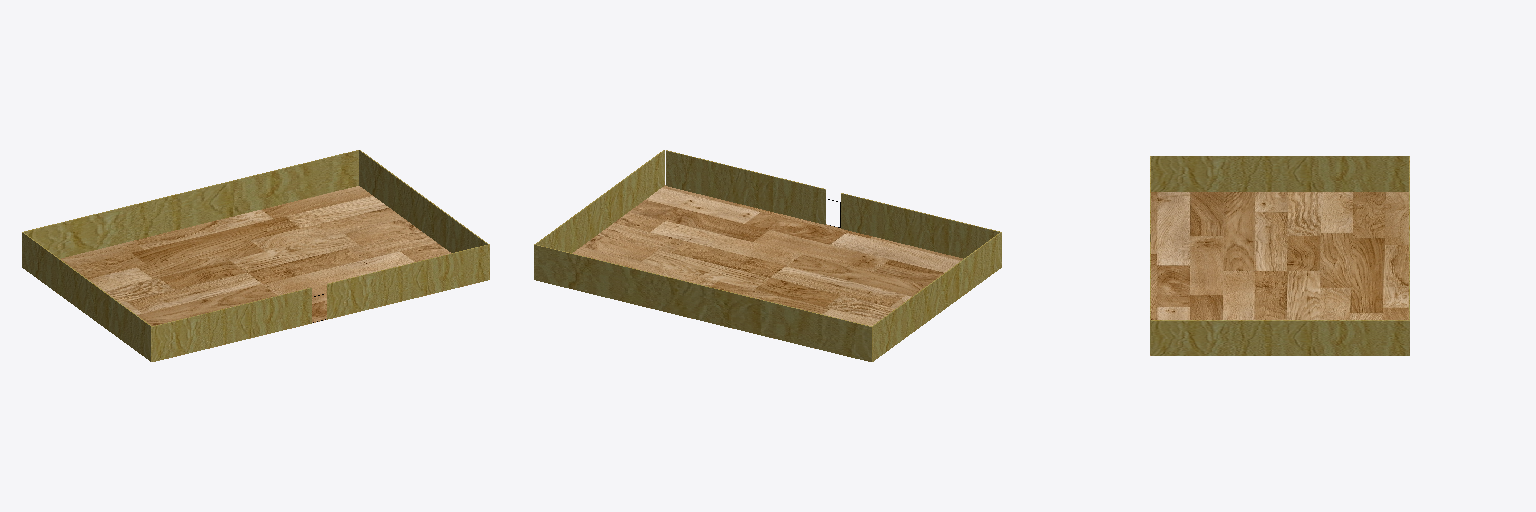
The picture shows the model from 3 angles: view 1: azimuth 30°, elevation 25°; view 2: azimuth 150°, elevation 25°; view 3: azimuth 270°, elevation 25°; orthographic projection.
Visible parts, largest first — view 1: pPlane1, pCube17, pCube38, pCube36, pCube33, pCube34; view 2: pPlane1, pCube17, pCube38, pCube36, pCube33, pCube34; view 3: pPlane1, pCube33, pCube34.
Boxes of the visible parts, <box> form: pPlane1: <box>57,186,475,358</box>; pCube17: <box>24,150,358,258</box>; pCube38: <box>327,245,487,319</box>; pCube36: <box>152,288,311,361</box>; pCube33: <box>22,232,151,361</box>; pCube34: <box>359,150,489,279</box>; pPlane1: <box>573,185,966,348</box>; pCube17: <box>534,244,872,361</box>; pCube38: <box>666,150,825,224</box>; pCube36: <box>841,193,999,258</box>; pCube33: <box>872,232,1001,361</box>; pCube34: <box>536,150,664,252</box>; pPlane1: <box>1150,192,1408,355</box>; pCube33: <box>1151,156,1408,191</box>; pCube34: <box>1151,320,1408,355</box>.
Size of the model in its own units: 300 by 30 by 200.
Materials: 3 (2 with a texture image).